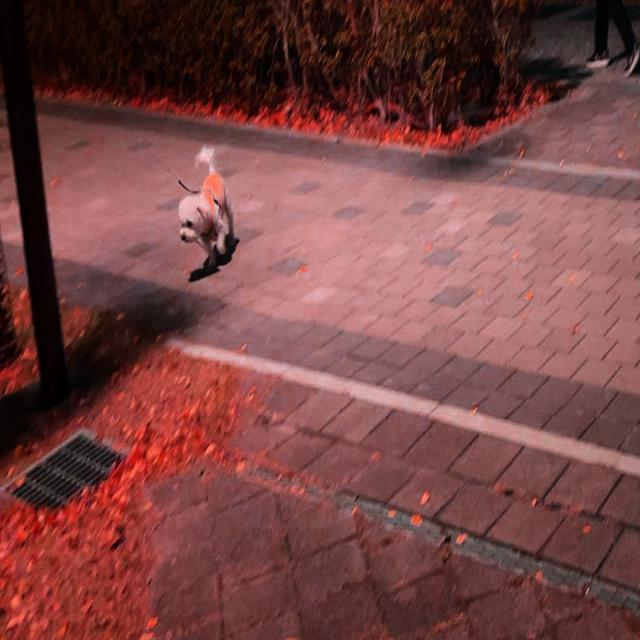Dog: (178, 143, 237, 274)
